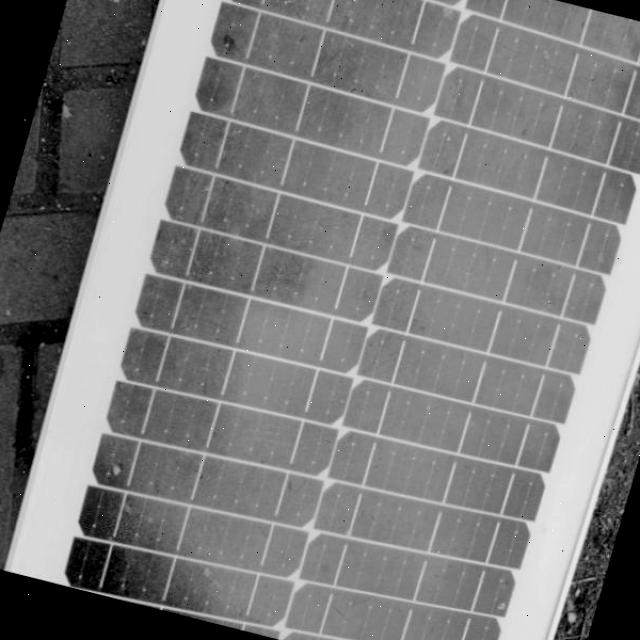Surface Contaminant: (45, 0, 640, 640)
